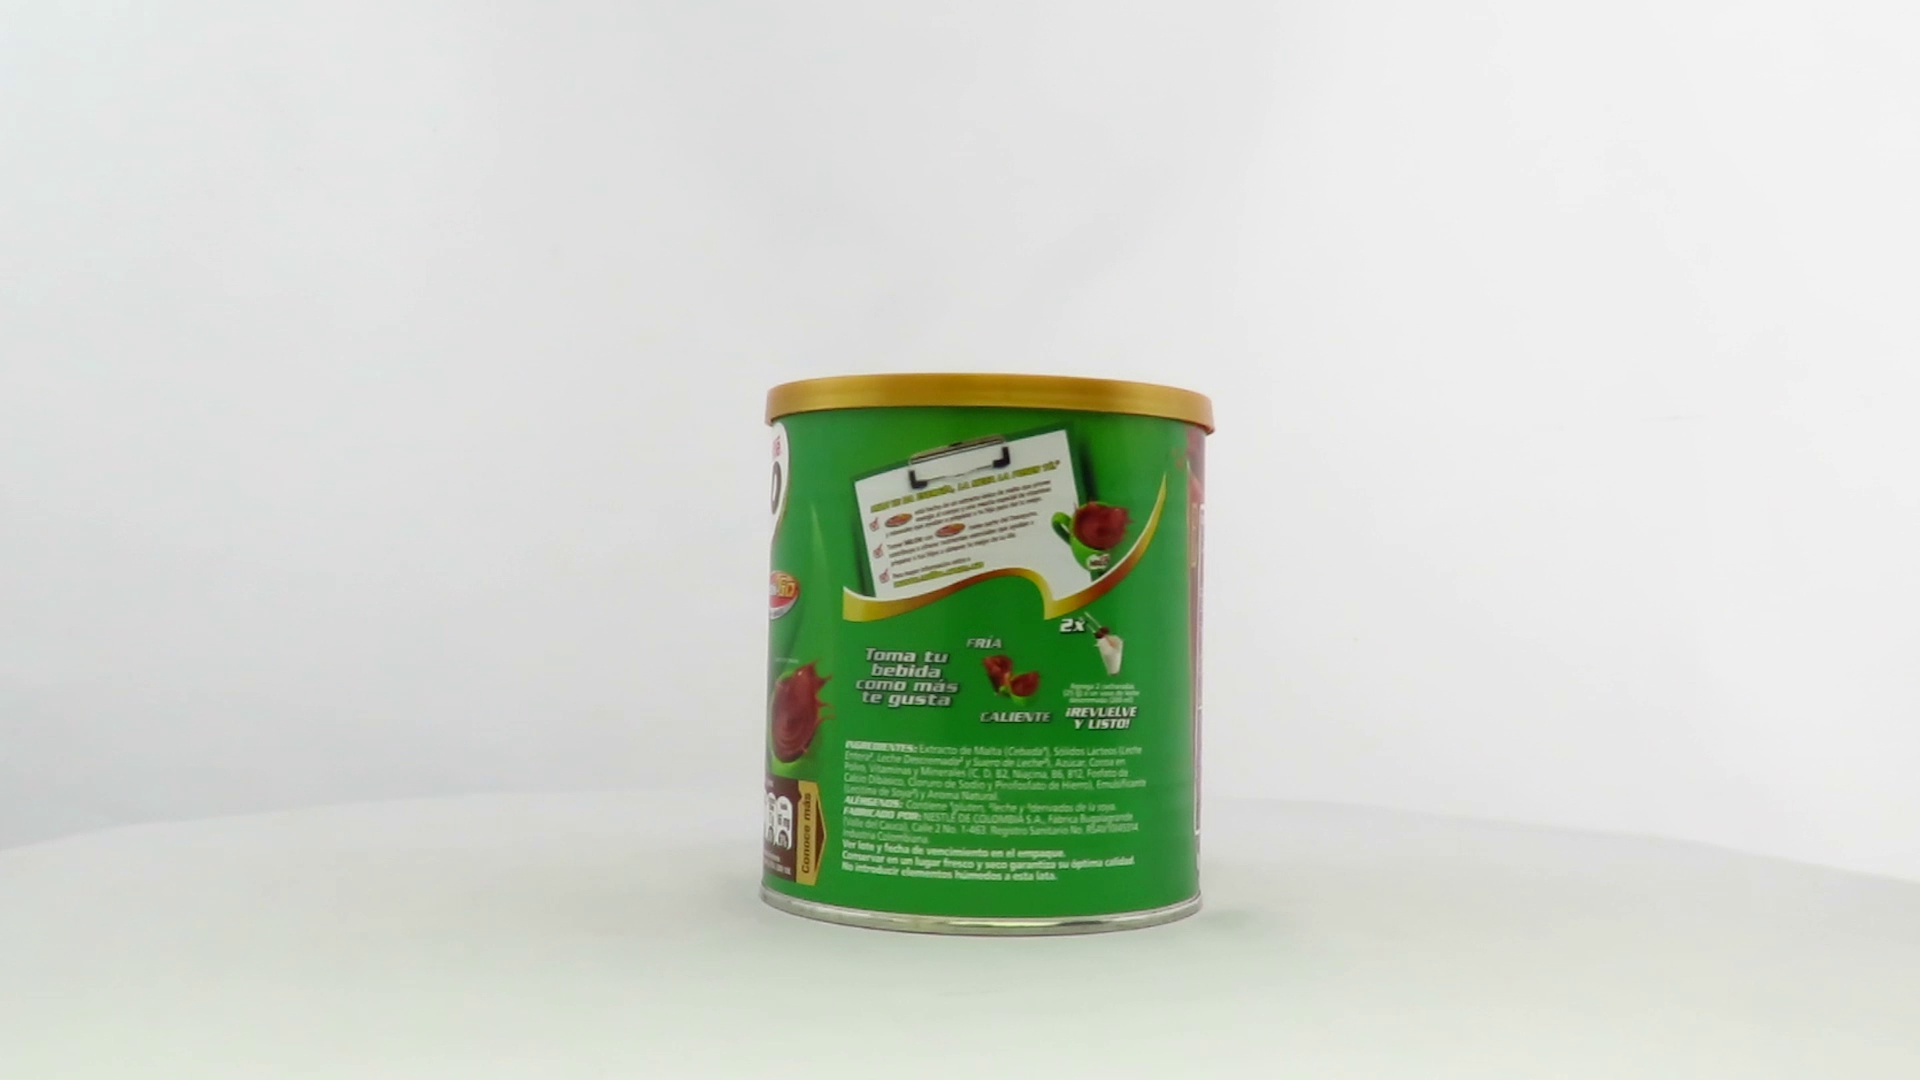COL0170203LAT40000: (753, 368, 1221, 944)
